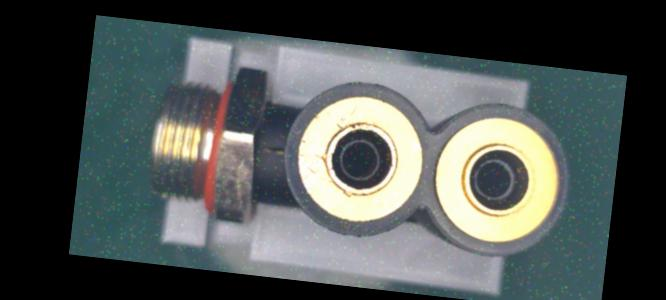craze: (258, 140, 285, 160)
